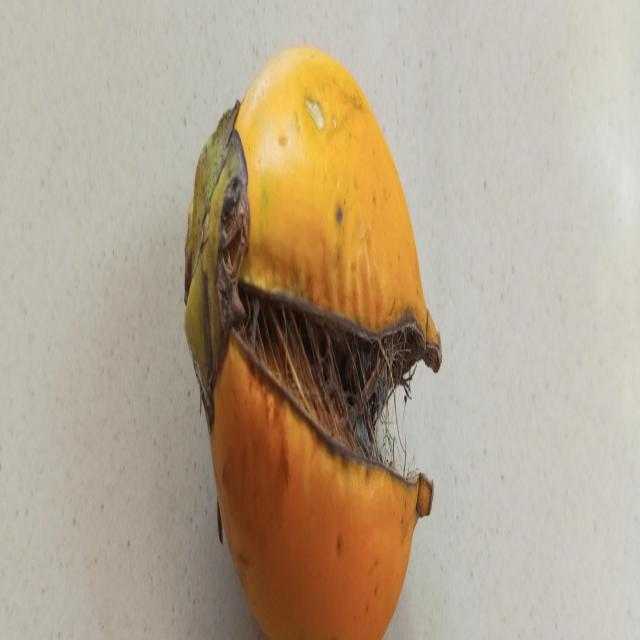damaged: (185, 47, 442, 640)
